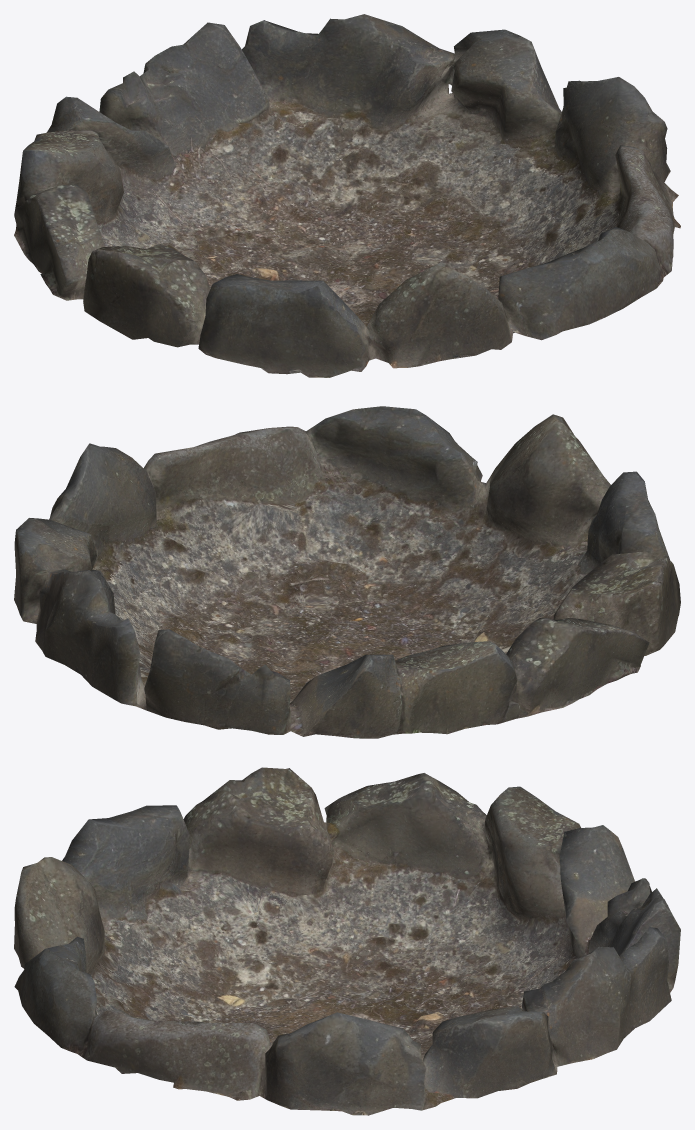
File: SM_FirePit.fbx
3 views of the same model, one above another, from view 1: azimuth 30°, elevation 25°; view 2: azimuth 150°, elevation 25°; view 3: azimuth 270°, elevation 25° (orthographic).
Parts seen in each view (by area): view 1: SM_FirePit; view 2: SM_FirePit; view 3: SM_FirePit.
Part boxes in pixels (x1,y1,x2,y2): SM_FirePit: (14,14,680,377); SM_FirePit: (14,406,680,738); SM_FirePit: (14,767,680,1115).
Bounding box in the file's own units: 1.45 × 0.3883 × 1.43.
